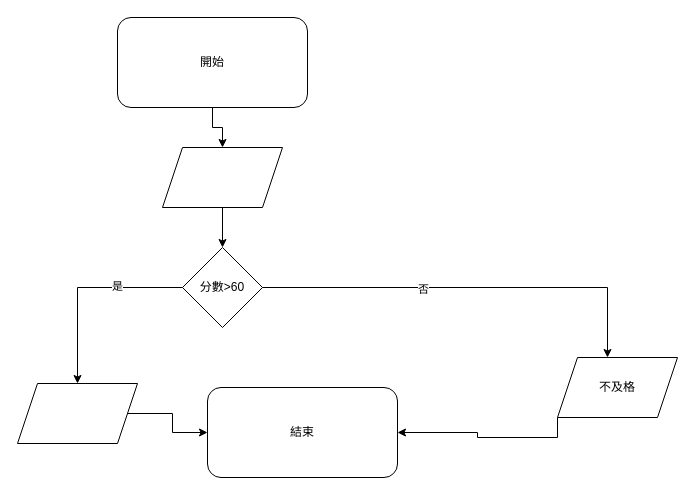
The diagram is 695 pixels wide and 495 high, and some of its shapes have lost their labels. Each missing label, with the box of its shape:
及格: (16, 382, 138, 444)
輸入分數: (162, 146, 282, 208)
